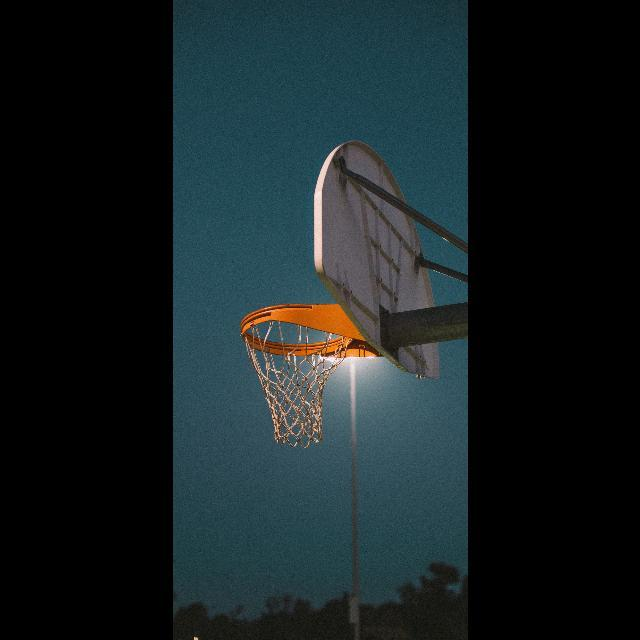rim: (240, 304, 350, 446)
